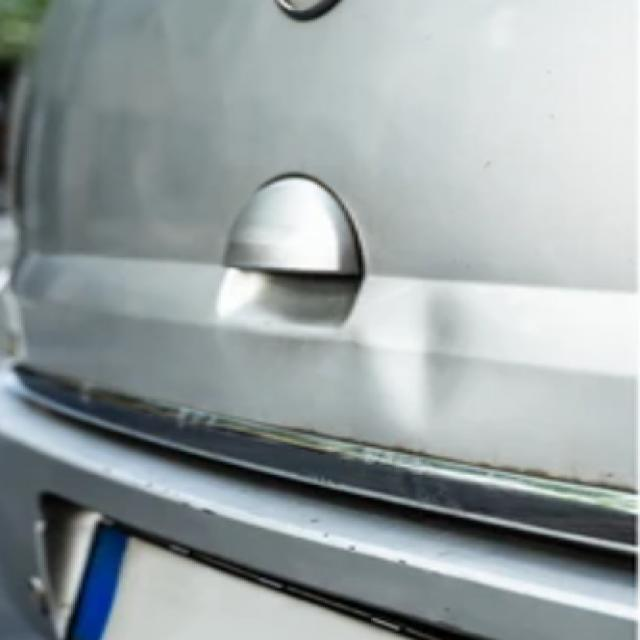dents: (386, 271, 492, 456)
